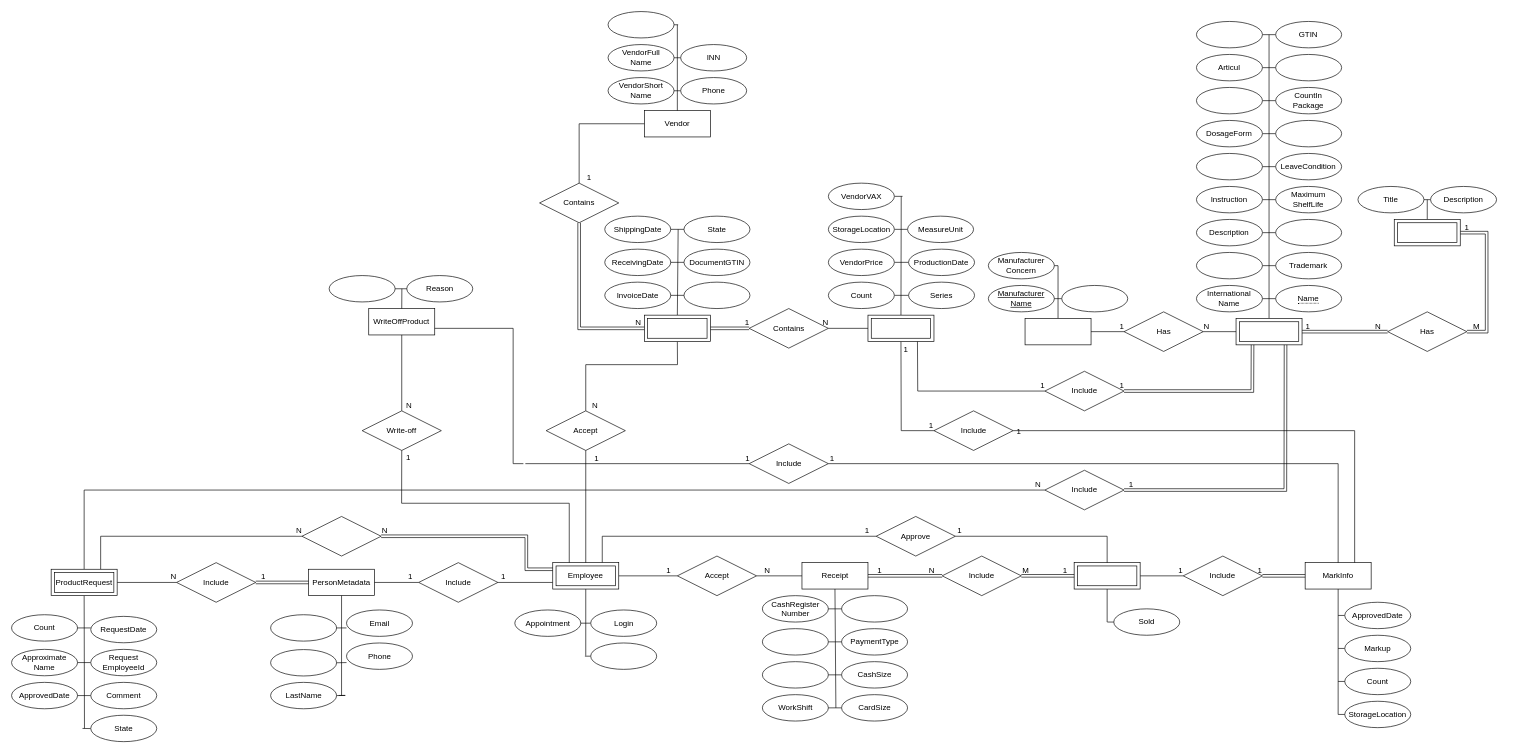
The diagram is 1528 pixels wide and 754 high, and some of its shapes have lost their labels. Here are the shapes that lost their labels. From the top down, the centre of each, then its label:
At (x=640, y=24): "KPP".
At (x=1229, y=34): "DefaultMarkup".
At (x=1308, y=67): "Maximum Markup".
At (x=1229, y=100): "Threashold Count".
At (x=1308, y=133): "Photo".
At (x=1229, y=166): "Primacy Packaging".
At (x=1308, y=232): "Dosage".
At (x=1427, y=232): "Category".
At (x=1229, y=265): "Storage Temperature".
At (x=361, y=288): "WriteOffDate".
At (x=716, y=295): "InvoiceNumber".
At (x=1094, y=298): "Manufacturer Country".
At (x=677, y=328): "Invoice".
At (x=900, y=328): "Income Product".
At (x=1057, y=331): "Manufacturer".
At (x=1268, y=331): "Product".
At (x=341, y=536): "Create".
At (x=1106, y=575): "Marked product".
At (x=303, y=627): "FirstName".
At (x=874, y=608): "LeaveDate".
At (x=623, y=655): "PasswordHash".
At (x=795, y=641): "ReceiptNumber".
At (x=303, y=662): "MiddleName".
At (x=795, y=674): "Discount".
